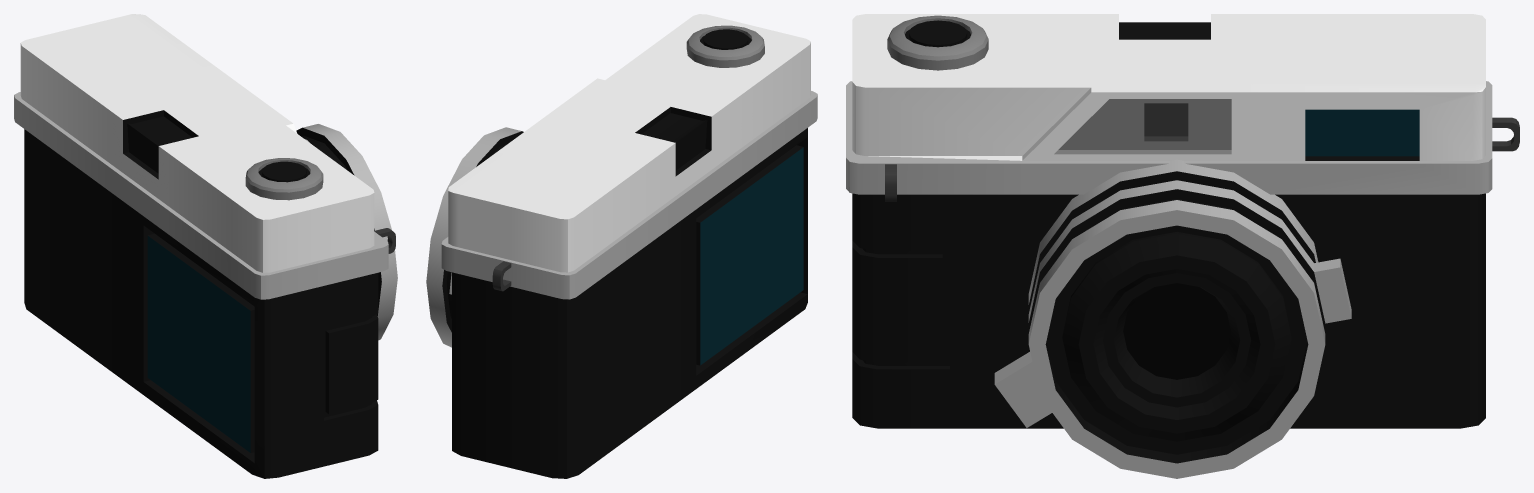
The model's file is Camera_02.glb.
The picture shows the model from 3 angles, left to right: view 1: azimuth 30°, elevation 25°; view 2: azimuth 150°, elevation 25°; view 3: azimuth 270°, elevation 25°; orthographic projection. The views are drawn at different scales.
Parts seen in each view (by area): view 1: Mesh_Camera_02; view 2: Mesh_Camera_02; view 3: Mesh_Camera_02.
Boxes of the visible parts, x1=… form: Mesh_Camera_02: x1=14, y1=14, x2=397, y2=478; Mesh_Camera_02: x1=426, y1=14, x2=817, y2=478; Mesh_Camera_02: x1=846, y1=14, x2=1519, y2=478.
Bounding box in the file's own units: 0.0839 × 0.1049 × 0.1816.
1 material, 1 textured.
